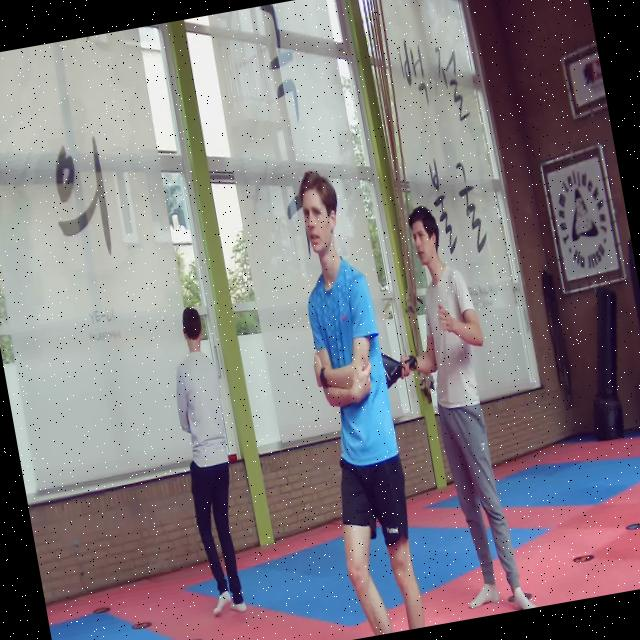paddle: (381, 352, 415, 389)
